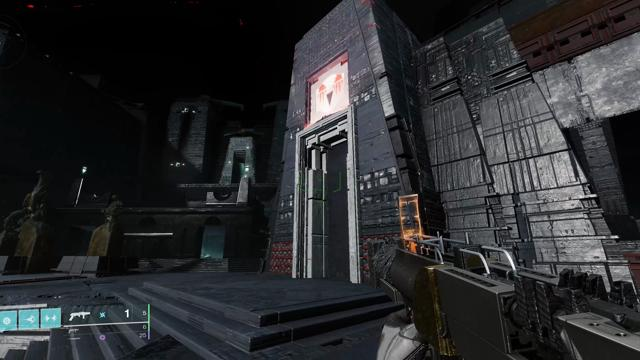give: (316, 74, 344, 112)
